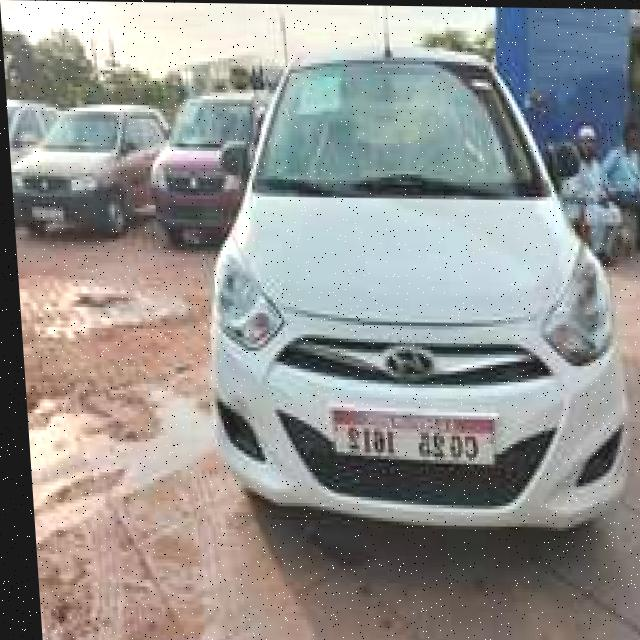plate: (322, 413, 491, 460)
